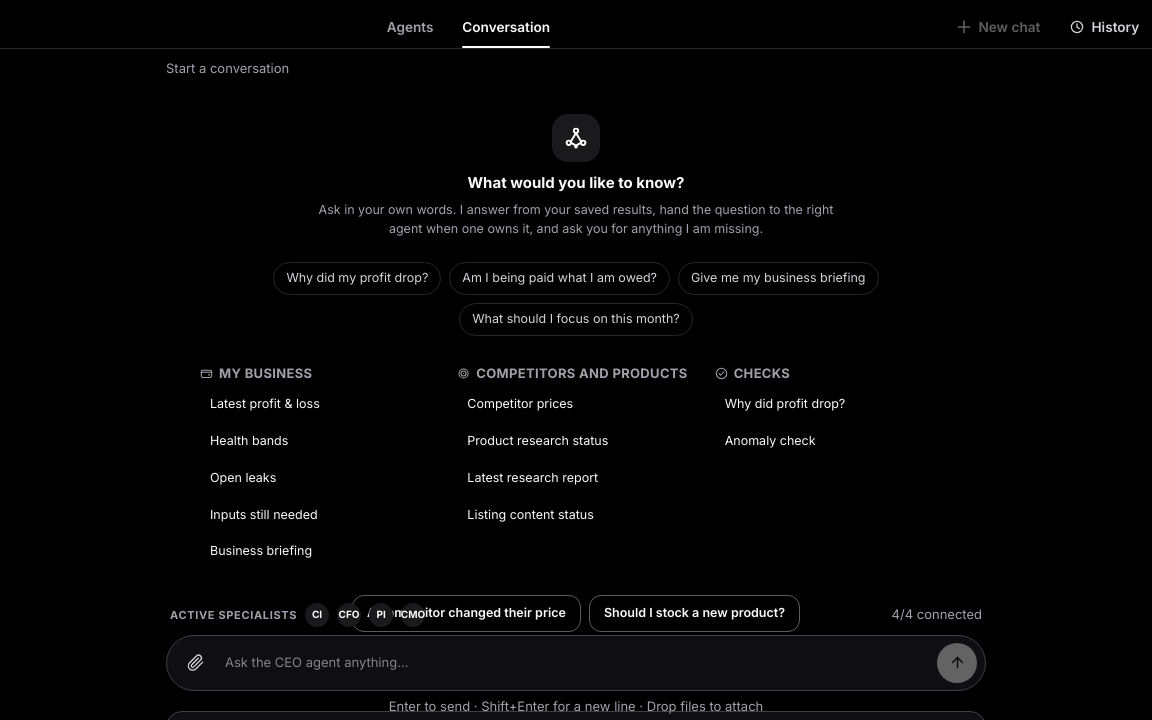
Test: follow-up lookup steps › shows who asked whom for what and the outcome in plain words (FULFILLED)
Click the button with test id "open-drawer": (1104, 27) [1056,8,1151,46]
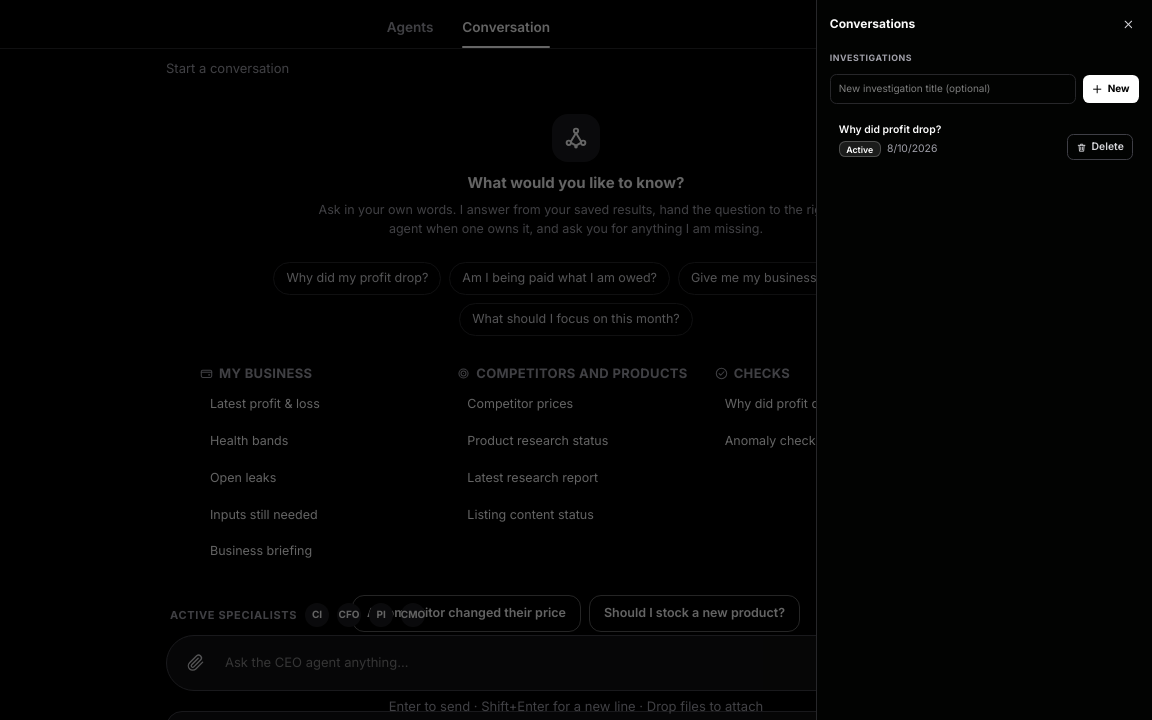
Click the button "Why did profit drop? Active 8/10/2026": (890, 130) [830,113,1139,166]
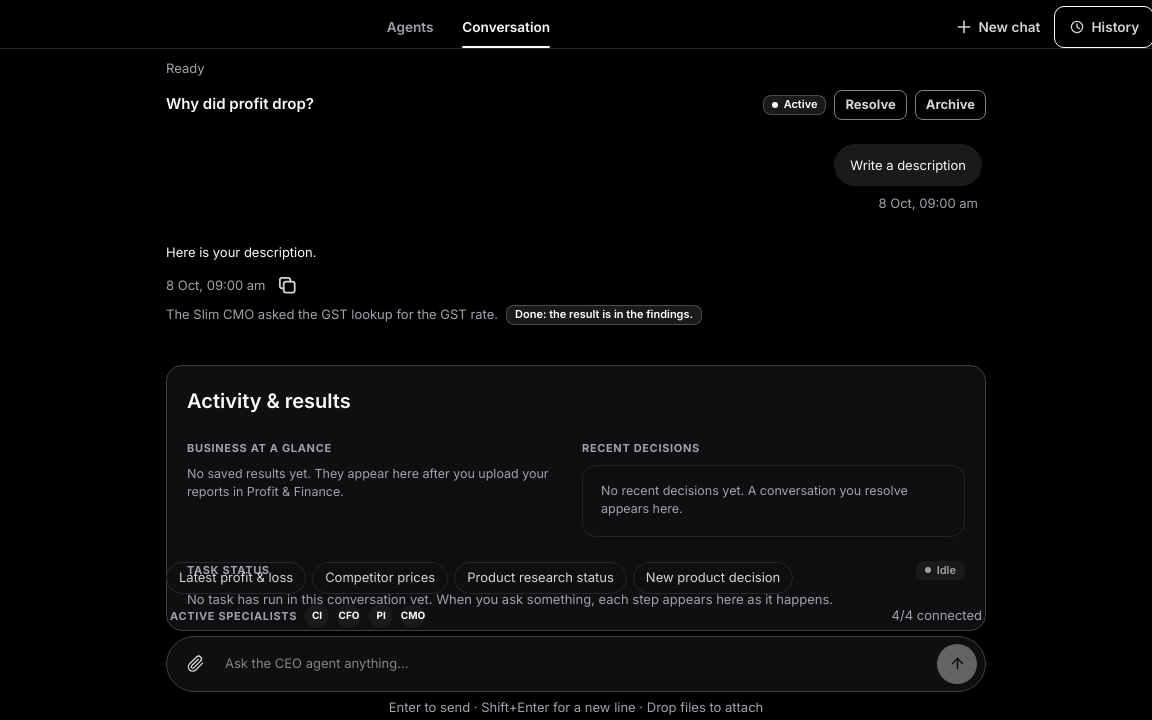
Expected: the element with test id "conversation" is shown, [166,90,986,353]
Expected: the list item with test id "need-step-n1" shows "The Slim CMO asked the GST lookup for the GST rate.", [166,306,498,322]
Expected: the text "Done: the result is in the findings." is shown, [506,305,702,325]
